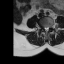CCS_normal: (46, 24, 47, 33)
LFS_severe_stenosis: (49, 24, 51, 29)
LLS_normal: (47, 25, 49, 32)
RFS_severe_stenosis: (42, 24, 44, 30)
RLS_normal: (44, 25, 46, 31)
